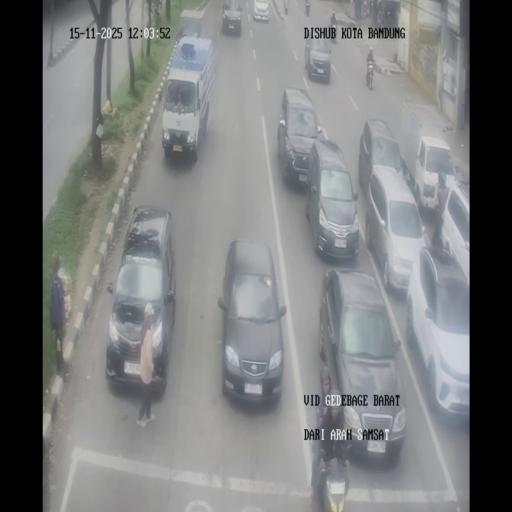car: (320, 268, 403, 459), (105, 205, 176, 392), (218, 240, 287, 407), (406, 245, 468, 422), (366, 165, 426, 295), (307, 137, 360, 262), (405, 131, 455, 216), (277, 88, 320, 186), (305, 32, 331, 82), (221, 0, 242, 36), (252, 0, 269, 22)
motorcycle: (365, 58, 374, 88), (369, 0, 378, 20), (330, 17, 338, 36), (284, 1, 289, 14), (306, 2, 310, 16)
truck: (162, 30, 217, 158)
